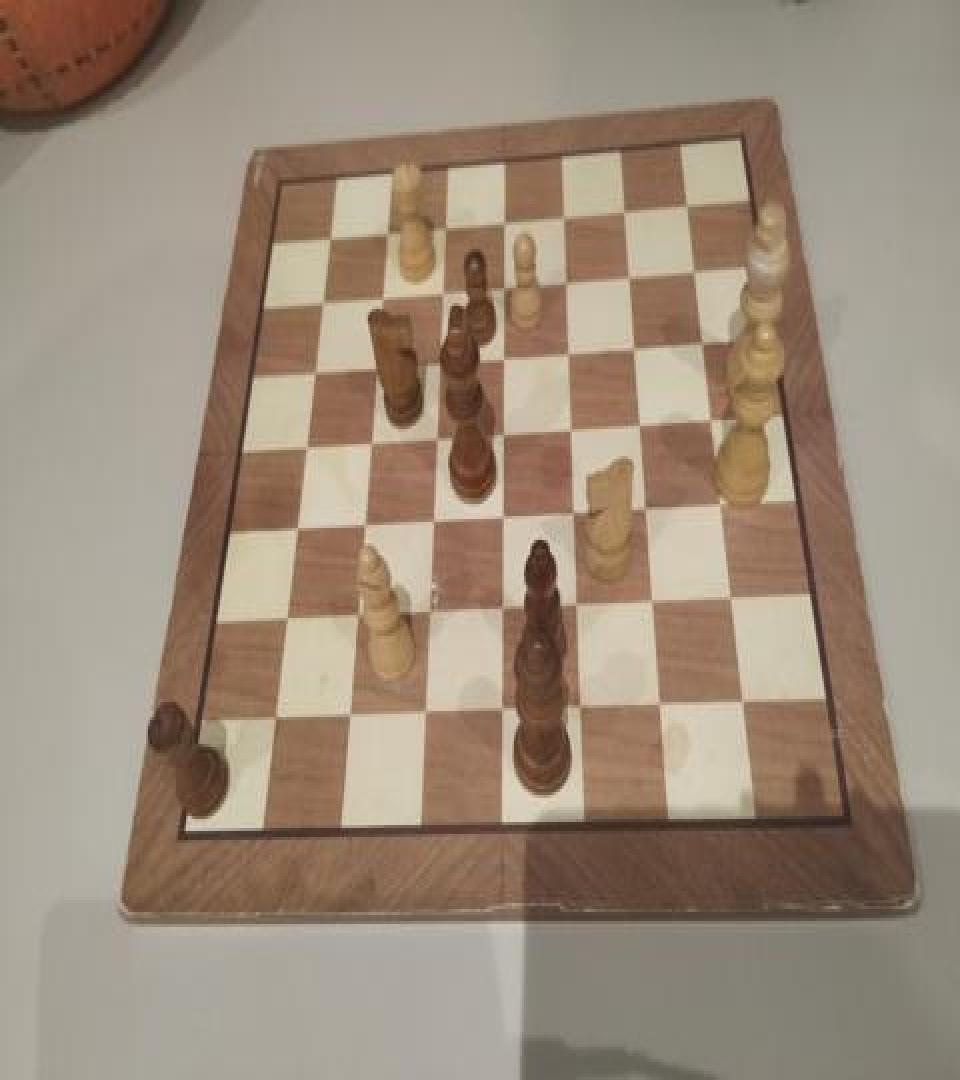xcorner: (263, 708, 283, 738), (338, 705, 358, 735), (414, 702, 434, 732), (492, 699, 512, 729), (653, 694, 673, 724), (735, 692, 755, 722), (346, 604, 366, 634), (493, 597, 513, 627), (568, 594, 588, 624), (645, 591, 665, 621), (285, 518, 305, 548), (353, 513, 373, 543), (422, 508, 442, 538), (493, 506, 513, 536), (565, 501, 585, 531), (638, 496, 658, 526), (713, 492, 733, 522), (294, 434, 314, 464), (359, 429, 379, 459), (426, 424, 446, 454), (493, 420, 513, 450), (562, 416, 582, 446), (632, 411, 652, 441), (703, 406, 723, 436), (303, 358, 323, 388), (366, 354, 386, 384), (429, 348, 449, 378), (494, 344, 514, 374), (560, 339, 580, 369), (627, 333, 647, 363), (694, 328, 714, 358), (311, 288, 331, 318), (371, 284, 391, 314), (432, 278, 452, 308), (494, 273, 514, 303), (557, 267, 577, 297), (621, 261, 641, 291), (686, 256, 706, 286), (318, 225, 338, 255), (376, 219, 396, 249), (435, 213, 455, 243), (495, 207, 515, 237), (555, 202, 575, 232), (617, 196, 637, 226), (679, 190, 699, 220), (572, 698, 592, 727), (274, 608, 294, 637), (418, 602, 438, 631), (724, 587, 744, 616)
